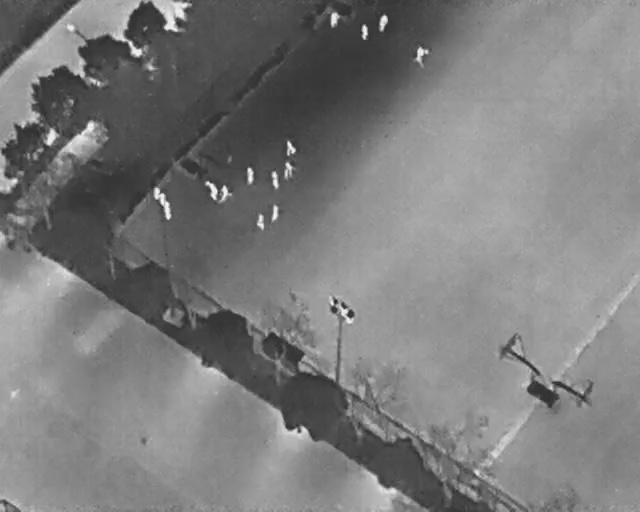Person: (374, 11, 392, 34), (204, 178, 220, 202), (414, 46, 429, 68), (269, 169, 281, 192), (217, 185, 231, 204), (255, 211, 266, 232), (283, 160, 294, 180), (329, 12, 341, 28), (245, 166, 255, 185), (286, 139, 296, 155), (271, 204, 279, 222), (361, 23, 369, 40)
